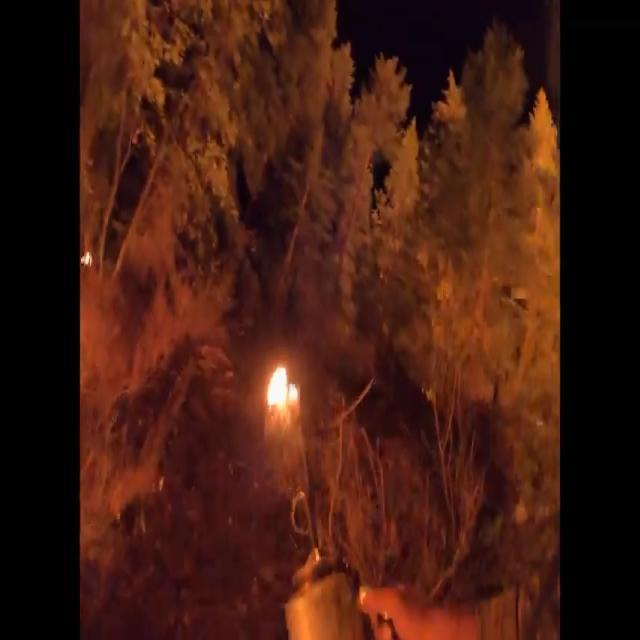Fire: (264, 352, 302, 418)
